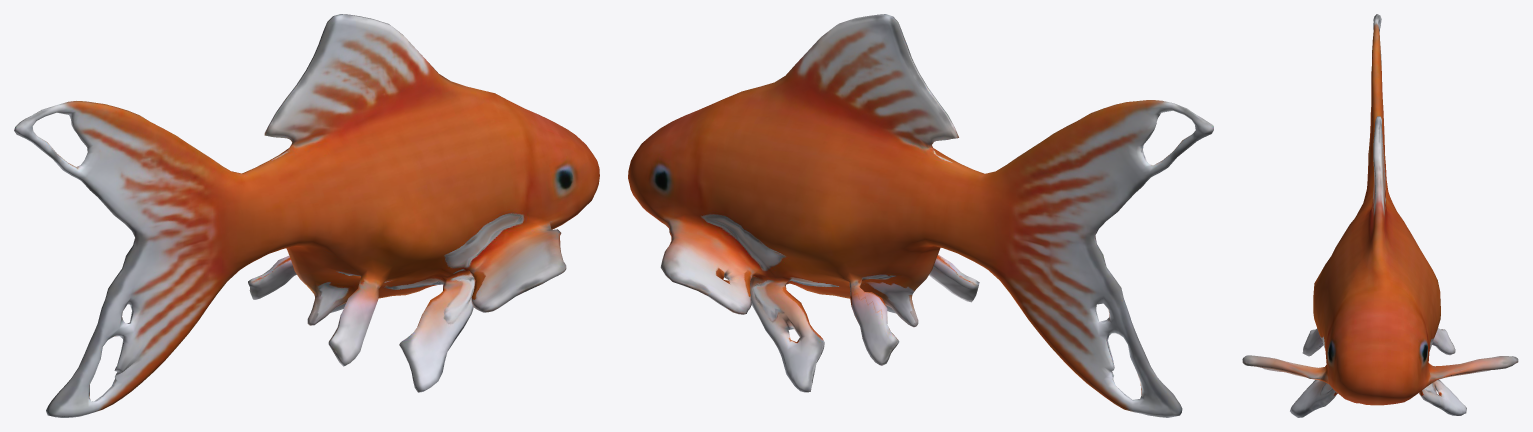
The model's file is fish_21.glb.
3 renders of one model, left to right at view 1: azimuth 30°, elevation 25°; view 2: azimuth 150°, elevation 25°; view 3: azimuth 270°, elevation 25°, orthographic. The views are drawn at different scales.
Parts seen in each view (by area): view 1: mesh; view 2: mesh; view 3: mesh.
Part boxes in pixels (x1=…): mesh: x1=14, y1=14, x2=599, y2=417; mesh: x1=628, y1=14, x2=1213, y2=417; mesh: x1=1242, y1=14, x2=1518, y2=417.
Size of the model in its own units: 0.996 by 0.5699 by 0.5029.
1 material, 1 textured.
